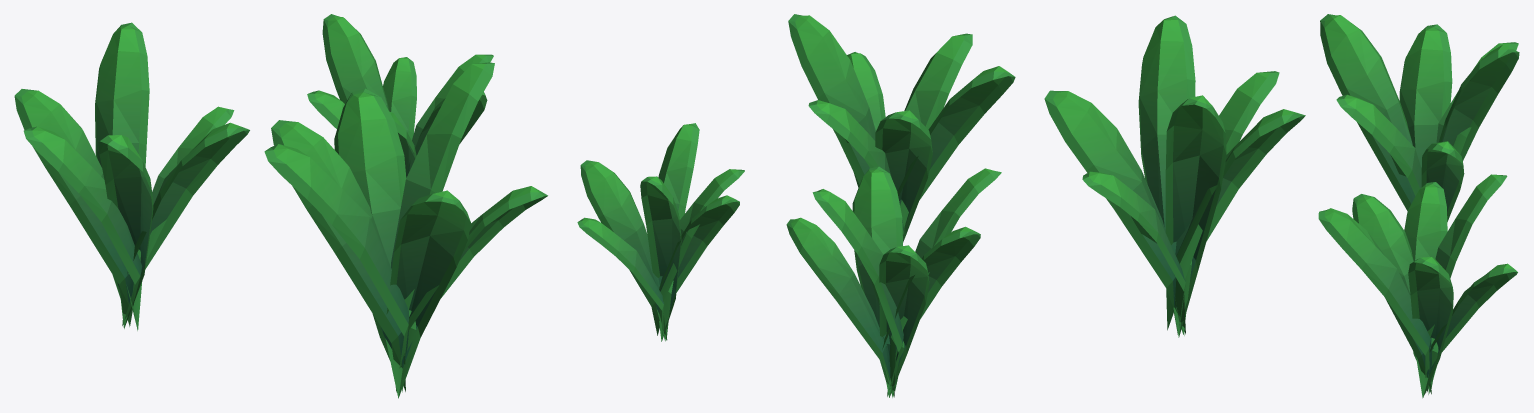
The model's file is crop_carrot_stage2.glb.
The picture shows the model from 3 angles, left to right: view 1: azimuth 30°, elevation 25°; view 2: azimuth 150°, elevation 25°; view 3: azimuth 270°, elevation 25°; orthographic projection. The views are drawn at different scales.
Parts seen in each view (by area): view 1: crop_carrot_stage2; view 2: crop_carrot_stage2; view 3: crop_carrot_stage2.
Part boxes in pixels (x1=…): crop_carrot_stage2: x1=14, y1=14, x2=547, y2=398; crop_carrot_stage2: x1=577, y1=14, x2=1015, y2=397; crop_carrot_stage2: x1=1044, y1=14, x2=1519, y2=398.
Bounding box in the file's own units: 0.3912 × 0.24 × 0.3703.
Materials: 1 (1 with a texture image).
